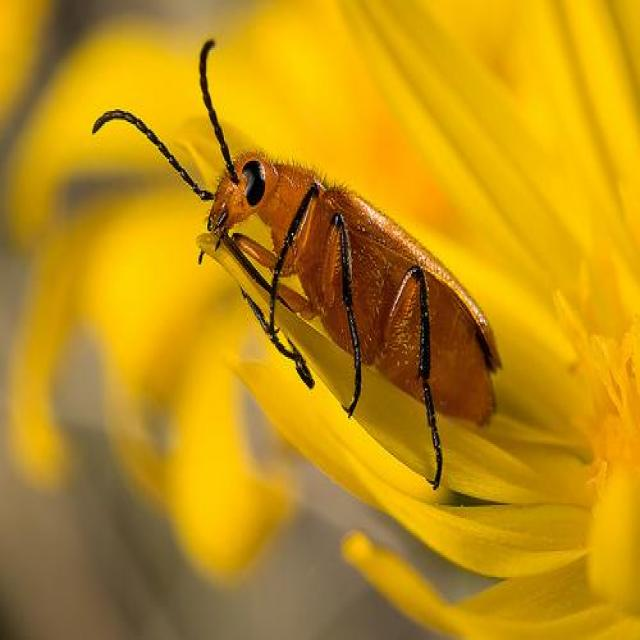BlisterBeetle-Adult-: (86, 31, 508, 492)
